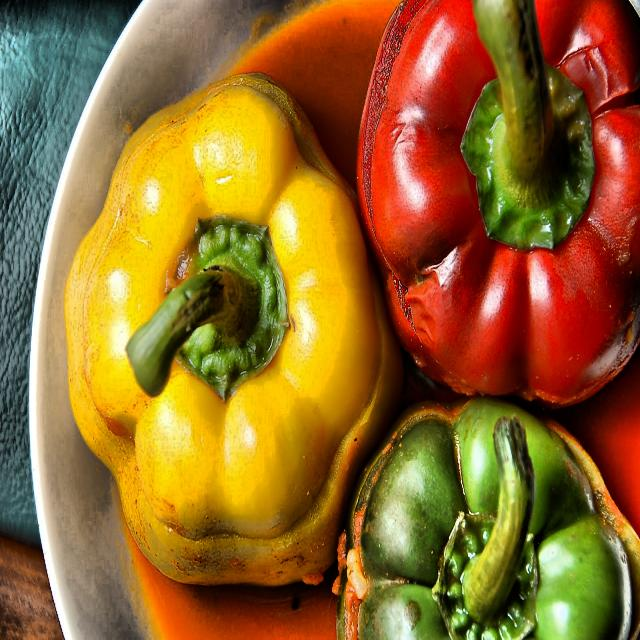capsicum: (88, 62, 383, 575), (359, 0, 640, 410), (359, 378, 637, 640)
